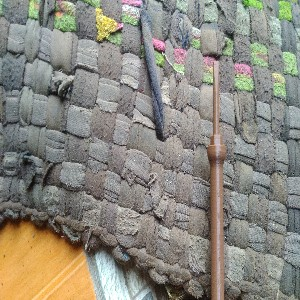obeng: (205, 60, 226, 300)
